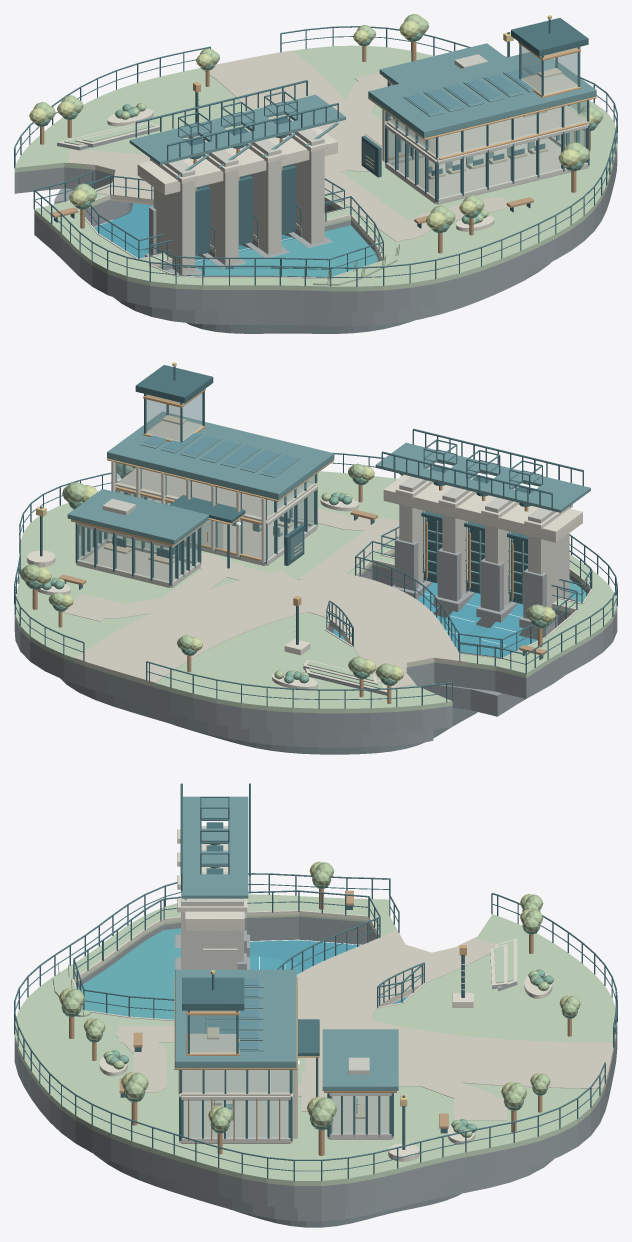
Rendered from flood-control-g.glb.
The picture shows the model from 3 angles, top to bottom: view 1: azimuth 30°, elevation 25°; view 2: azimuth 150°, elevation 25°; view 3: azimuth 270°, elevation 25°; orthographic projection. The views are drawn at different scales.
Parts seen in each view (by area): view 1: Terrain_Foundation_Components__green, Terrain_Foundation_Components__rock, Terrain_Foundation_Components__floor, Triple_Sluice_Mechanics_Components__concrete, Command_Centre_Components__steel_lite, Walkways_Railings_Components__steel, Command_Centre_Components__glass2, Command_Centre_Components__floor, Triple_Sluice_Mechanics_Components__steel_lite, Triple_Sluice_Mechanics_Components__steel, Command_Centre_Components__steel, Hydraulic_Water_Components__water_upper (+24 smaller); view 2: Terrain_Foundation_Components__green, Terrain_Foundation_Components__floor, Terrain_Foundation_Components__rock, Command_Centre_Components__steel_lite, Walkways_Railings_Components__steel, Command_Centre_Components__glass2, Command_Centre_Components__steel, Triple_Sluice_Mechanics_Components__steel_lite, Triple_Sluice_Mechanics_Components__concrete, Triple_Sluice_Mechanics_Components__concrete_shadow, Command_Centre_Components__floor, Triple_Sluice_Mechanics_Components__concrete2 (+21 smaller); view 3: Terrain_Foundation_Components__green, Terrain_Foundation_Components__floor, Terrain_Foundation_Components__rock, Command_Centre_Components__steel_lite, Walkways_Railings_Components__steel, Command_Centre_Components__floor, Command_Centre_Components__glass, Triple_Sluice_Mechanics_Components__steel_lite, Hydraulic_Water_Components__water_upper, Command_Centre_Components__steel, Riparian_Landscape_Components__leaf2, Triple_Sluice_Mechanics_Components__concrete (+17 smaller).
Part boxes in pixels (left/top/right/bottom): Terrain_Foundation_Components__green: left=14, top=45, right=617, bottom=291; Terrain_Foundation_Components__rock: left=14, top=145, right=617, bottom=325; Terrain_Foundation_Components__floor: left=68, top=50, right=508, bottom=241; Triple_Sluice_Mechanics_Components__concrete: left=153, top=119, right=324, bottom=274; Command_Centre_Components__steel_lite: left=368, top=43, right=596, bottom=138; Walkways_Railings_Components__steel: left=14, top=26, right=617, bottom=286; Command_Centre_Components__glass2: left=363, top=101, right=587, bottom=198; Command_Centre_Components__floor: left=387, top=106, right=588, bottom=197; Triple_Sluice_Mechanics_Components__steel_lite: left=129, top=94, right=345, bottom=178; Triple_Sluice_Mechanics_Components__steel: left=135, top=80, right=338, bottom=255; Command_Centre_Components__steel: left=385, top=18, right=589, bottom=202; Hydraulic_Water_Components__water_upper: left=165, top=225, right=378, bottom=276; Terrain_Foundation_Components__green: left=15, top=471, right=617, bottom=713; Terrain_Foundation_Components__floor: left=62, top=503, right=467, bottom=687; Terrain_Foundation_Components__rock: left=14, top=553, right=617, bottom=747; Command_Centre_Components__steel_lite: left=67, top=411, right=334, bottom=544; Walkways_Railings_Components__steel: left=14, top=439, right=617, bottom=708; Command_Centre_Components__glass2: left=78, top=463, right=313, bottom=581; Command_Centre_Components__steel: left=75, top=365, right=317, bottom=585; Triple_Sluice_Mechanics_Components__steel_lite: left=375, top=442, right=590, bottom=603; Triple_Sluice_Mechanics_Components__concrete: left=399, top=465, right=569, bottom=607; Triple_Sluice_Mechanics_Components__concrete_shadow: left=392, top=537, right=576, bottom=639; Command_Centre_Components__floor: left=83, top=469, right=315, bottom=580; Triple_Sluice_Mechanics_Components__concrete2: left=383, top=474, right=582, bottom=590; Terrain_Foundation_Components__green: left=14, top=894, right=617, bottom=1185; Terrain_Foundation_Components__floor: left=116, top=929, right=613, bottom=1120; Terrain_Foundation_Components__rock: left=14, top=916, right=617, bottom=1221; Command_Centre_Components__steel_lite: left=175, top=969, right=398, bottom=1090; Walkways_Railings_Components__steel: left=14, top=796, right=617, bottom=1181; Command_Centre_Components__floor: left=181, top=1070, right=389, bottom=1136; Command_Centre_Components__glass: left=183, top=1070, right=389, bottom=1137; Triple_Sluice_Mechanics_Components__steel_lite: left=181, top=796, right=248, bottom=900; Hydraulic_Water_Components__water_upper: left=78, top=928, right=180, bottom=1019; Command_Centre_Components__steel: left=179, top=974, right=393, bottom=1140; Riparian_Landscape_Components__leaf2: left=53, top=862, right=580, bottom=1137; Triple_Sluice_Mechanics_Components__concrete: left=181, top=826, right=243, bottom=969.
Size of the model in its own units: 38.89 by 16.72 by 34.55.
